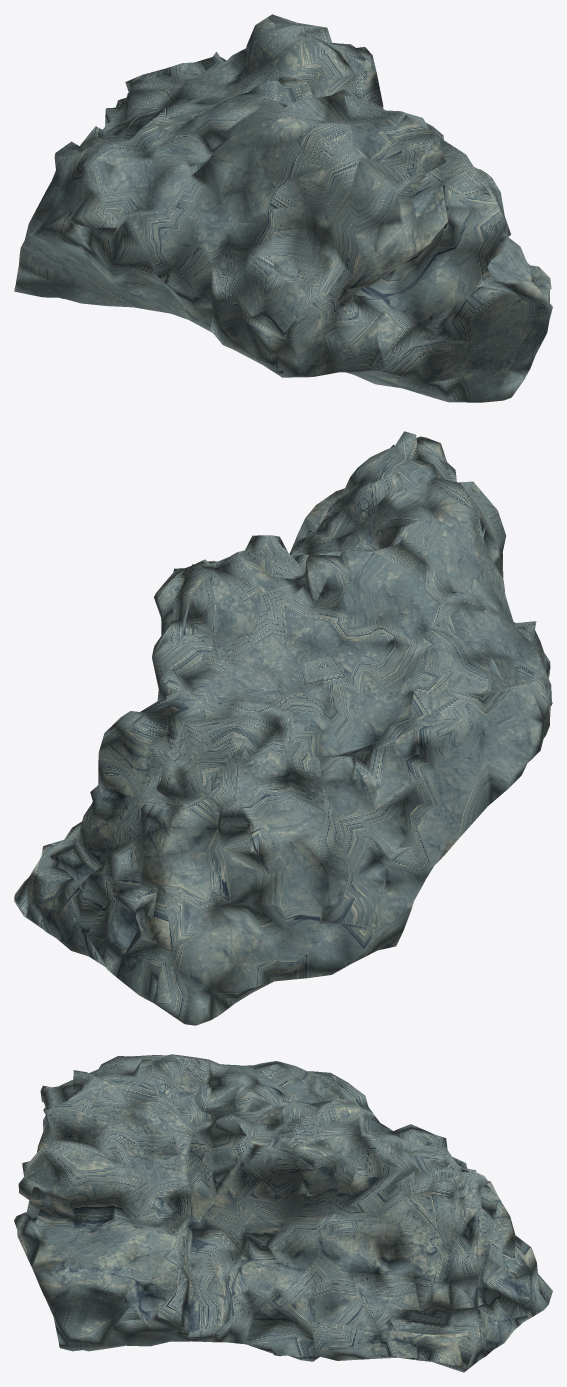
File: boulder-near.glb
3 views of the same model, one above another, from view 1: azimuth 30°, elevation 25°; view 2: azimuth 150°, elevation 25°; view 3: azimuth 270°, elevation 25° (orthographic). The views are drawn at different scales.
Parts seen in each view (by area): view 1: boulder_01; view 2: boulder_01; view 3: boulder_01.
Boxes of the visible parts, x1=… form: boulder_01: x1=14, y1=14, x2=552, y2=402; boulder_01: x1=14, y1=431, x2=552, y2=1025; boulder_01: x1=14, y1=1054, x2=552, y2=1372.
Size of the model in its own units: 3.8 by 2.98 by 5.44.
Materials: 1 (1 with a texture image).
